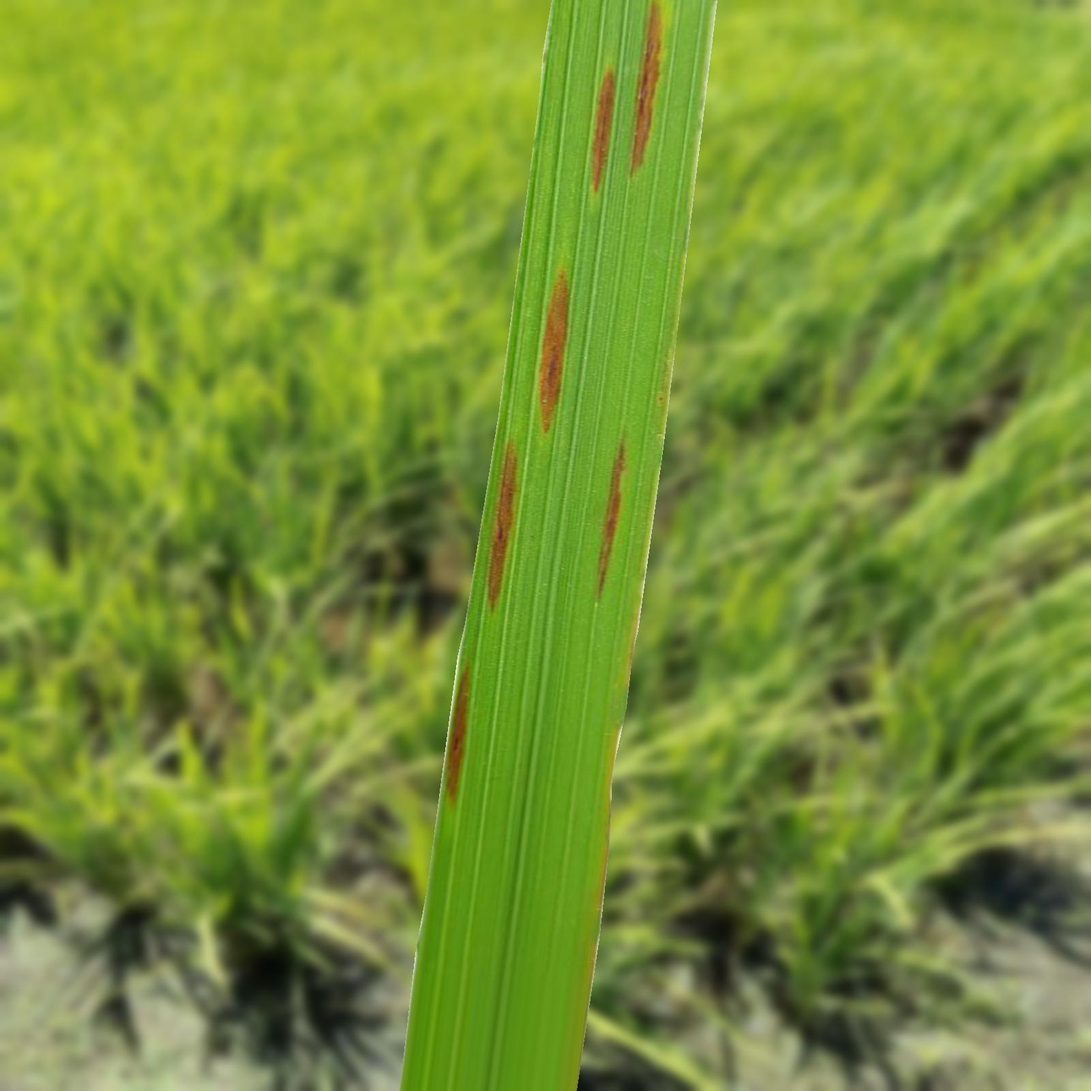LEAF: (400, 0, 717, 1090)
NBS: (631, 0, 662, 173), (487, 442, 518, 608), (539, 269, 568, 431), (597, 440, 626, 597), (445, 666, 469, 801), (592, 68, 615, 192)
